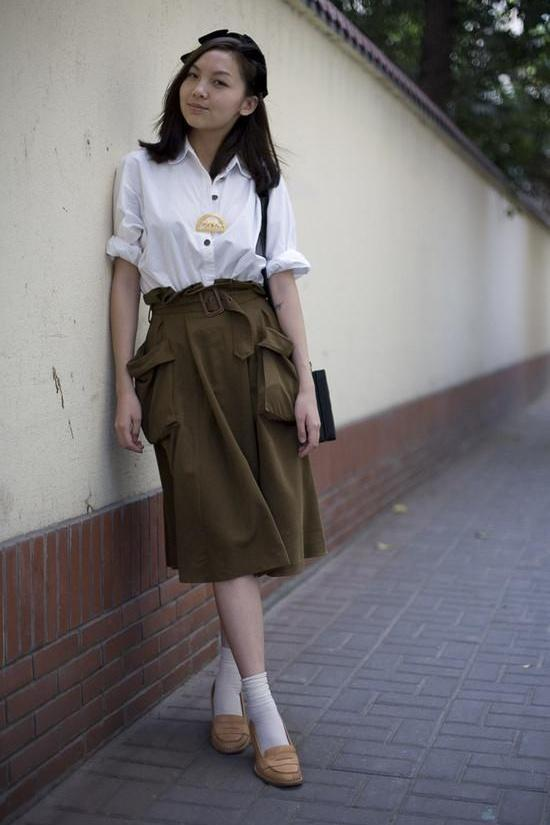shirt: (106, 131, 310, 292)
skirt: (125, 284, 326, 584)
